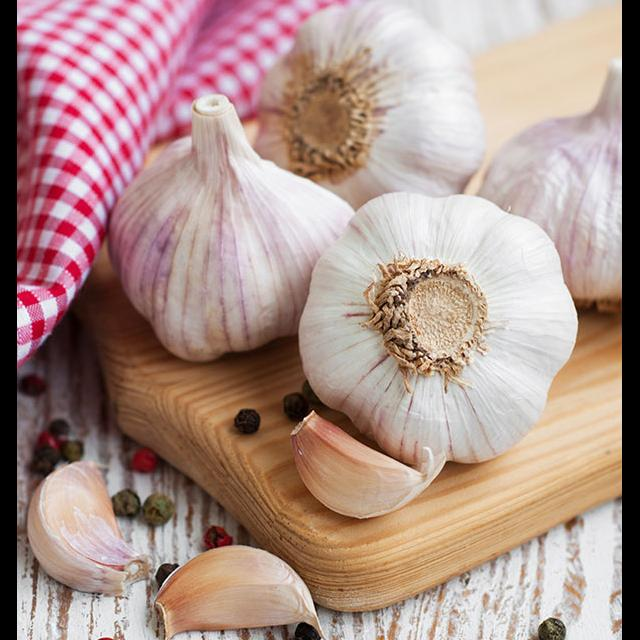garlic: (305, 191, 578, 456), (108, 113, 303, 356), (268, 1, 487, 188), (24, 459, 139, 593), (153, 544, 315, 638), (293, 412, 379, 520)
